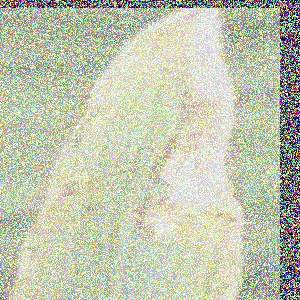Leaf_Blast: (54, 12, 241, 300)
